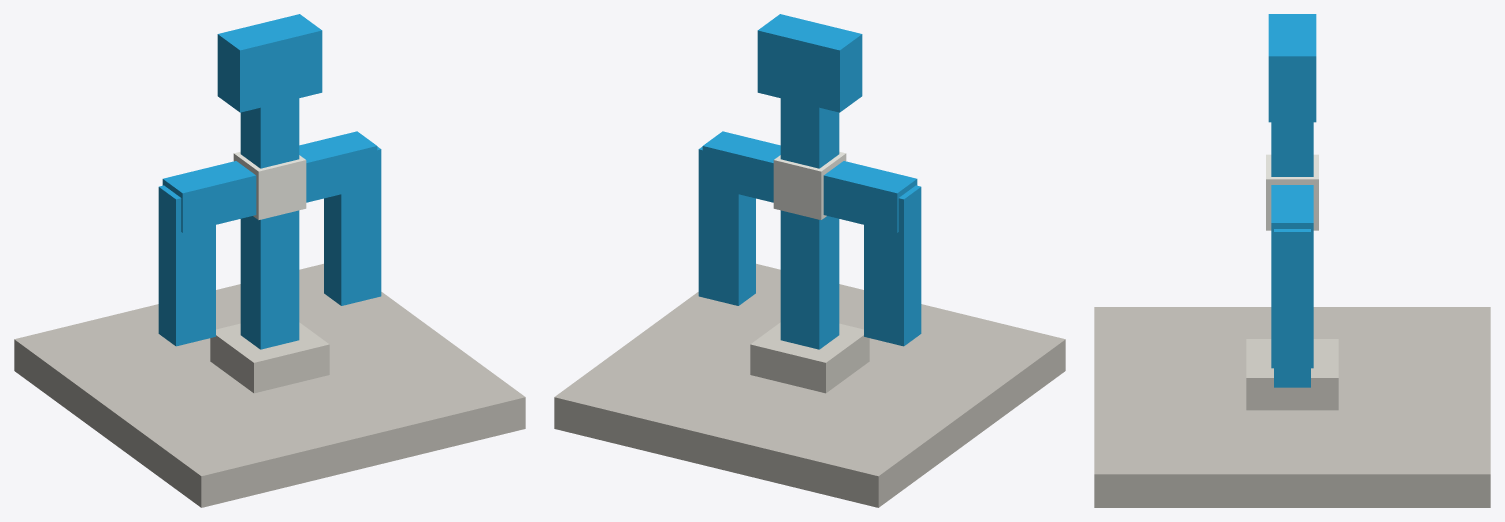
Rendered from voxel-shandong-blue-sculpture.gltf.
3 views of the same model, side by side, from view 1: azimuth 30°, elevation 25°; view 2: azimuth 150°, elevation 25°; view 3: azimuth 270°, elevation 25° (orthographic). The views are drawn at different scales.
Bounding box in the file's own units: 3 × 3.25 × 3.
